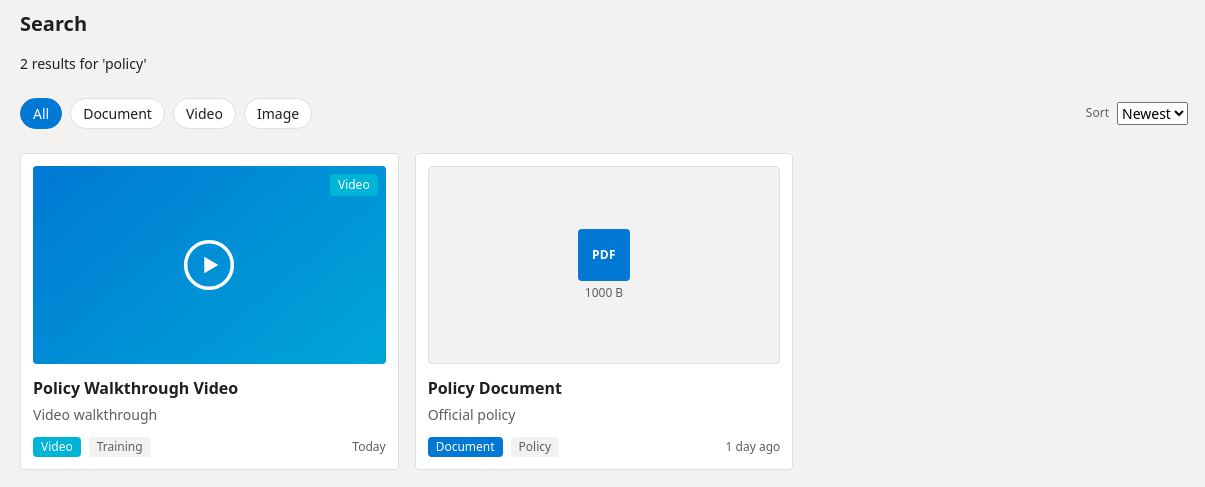
Test: SearchPage › clears type filter when All chip is selected
The image size is (1205, 487).
Expected: the heading "Policy Document" is shown, [428,377,562,399]
Click the button "Document" at (118, 114), box [70,98,165,129]
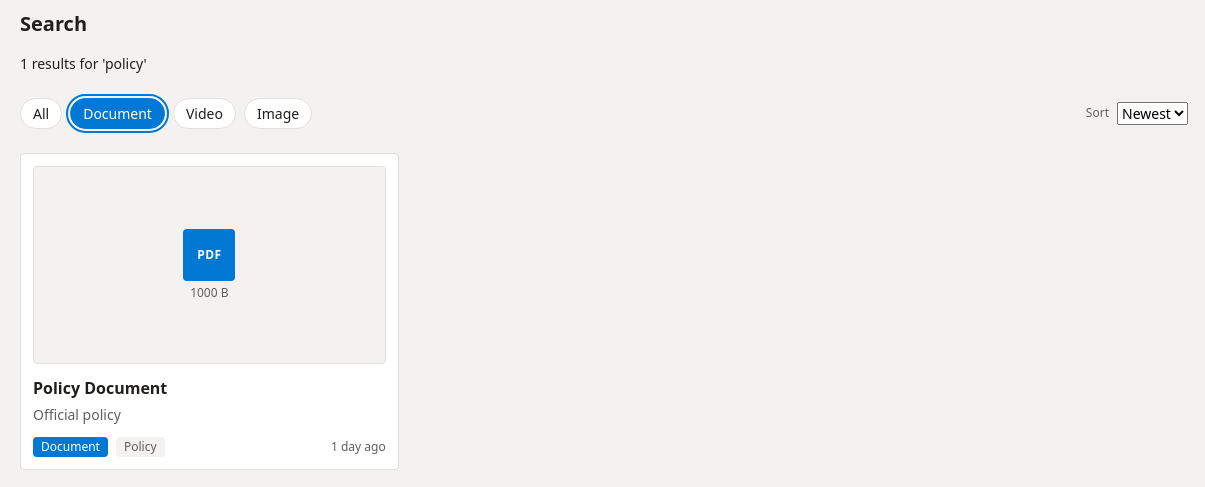
Click the button "All" at (41, 114), box [20,98,62,129]
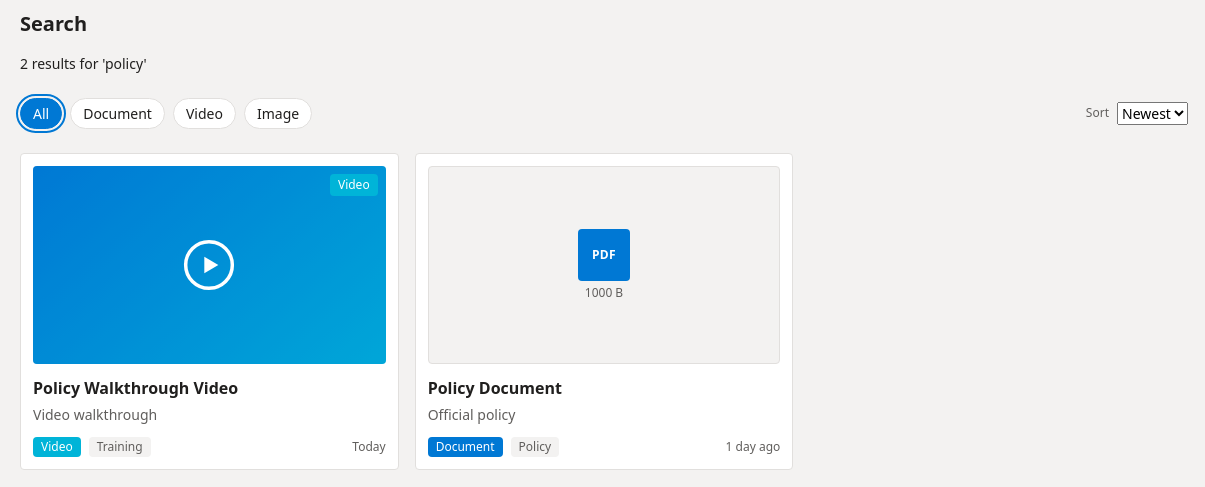
Expected: the heading "Policy Walkthrough Video" is shown, [33,377,238,399]
